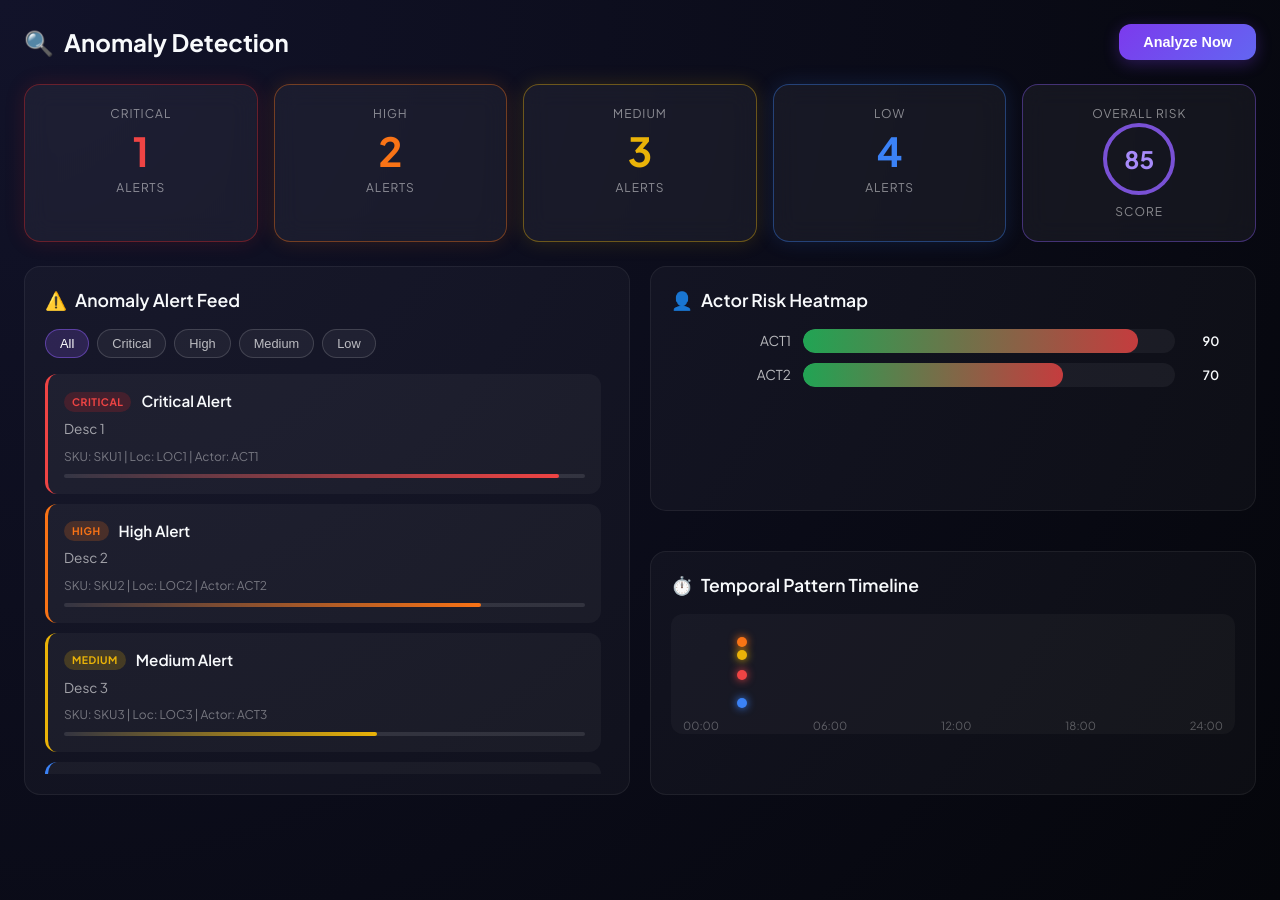
AnomalyDetectionPanel › expands alert card to show evidence
This screenshot has width=1280, height=900.
Expected: the text "Critical Alert" is shown, [141, 390, 232, 413]
Expected: the text "Evidence 1" is not shown
// Click to expand
Click the button "Critical Alert" at (98, 402), box [45, 374, 601, 494]
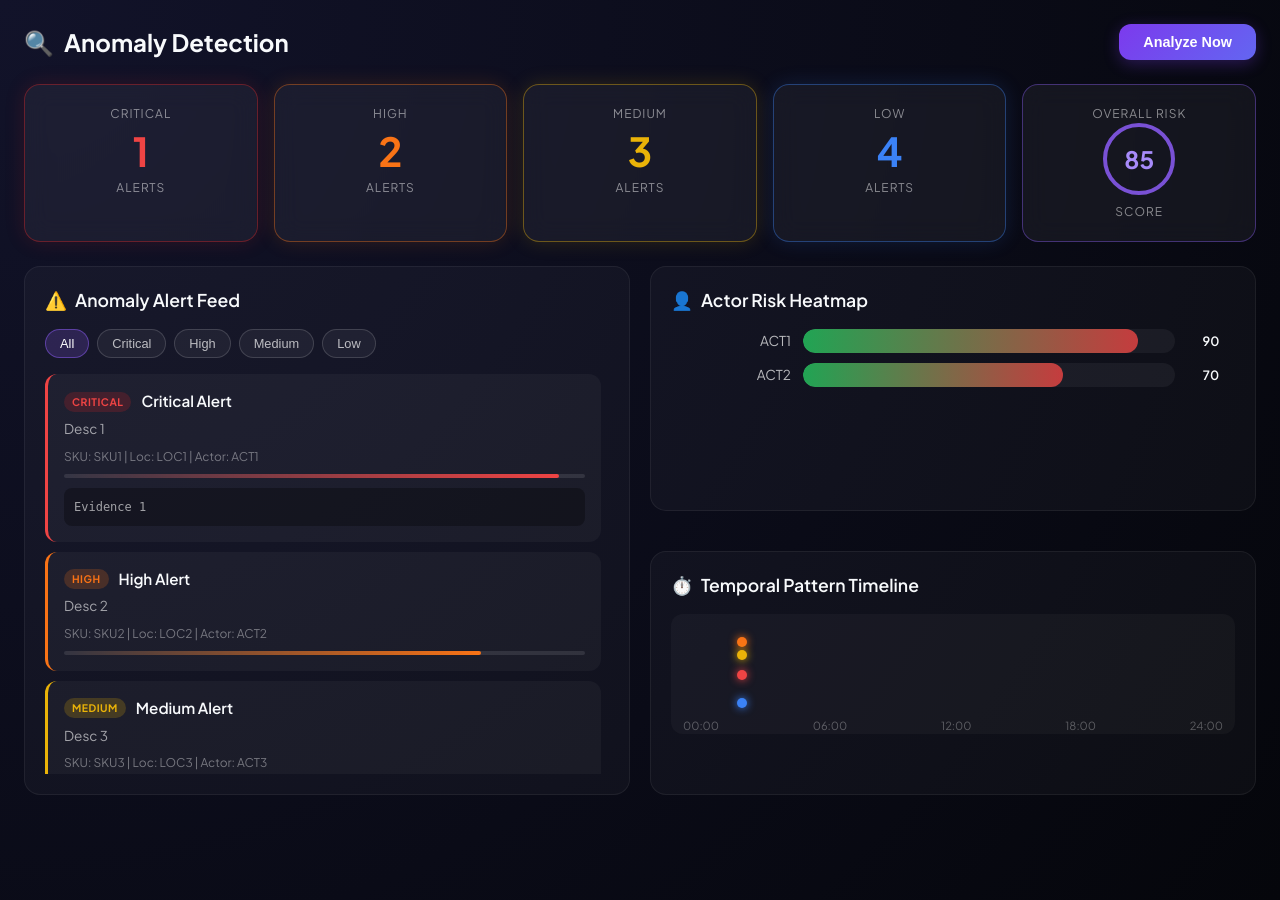
Result: the text "Evidence 1" is shown at [64, 488, 585, 526]
// Click to collapse
Click the button "Critical Alert" at (98, 402), box [45, 374, 601, 542]
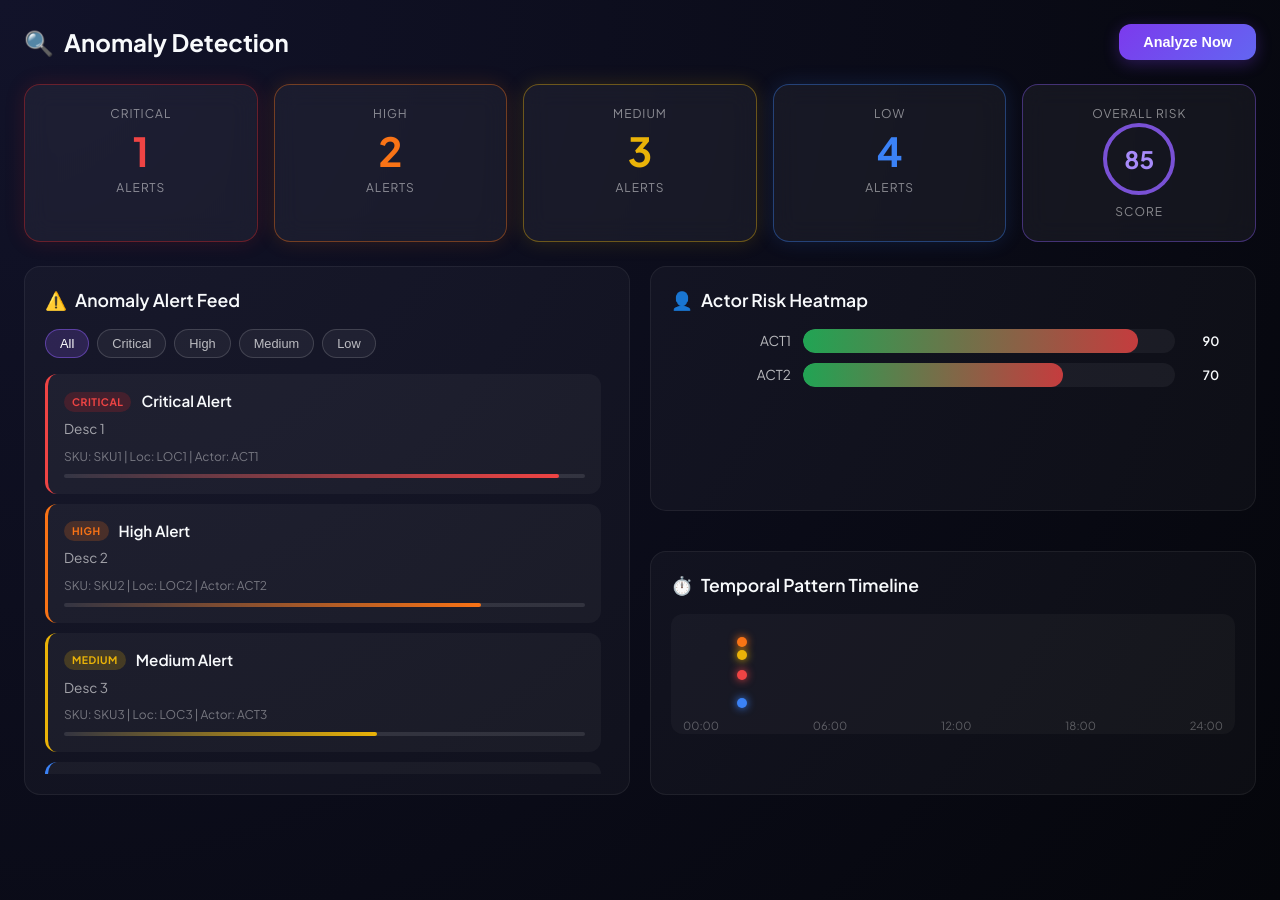
Result: the text "Evidence 1" is gone
// Keydown (Enter) to expand
Press Enter in the button "Critical Alert", box [45, 374, 601, 494]
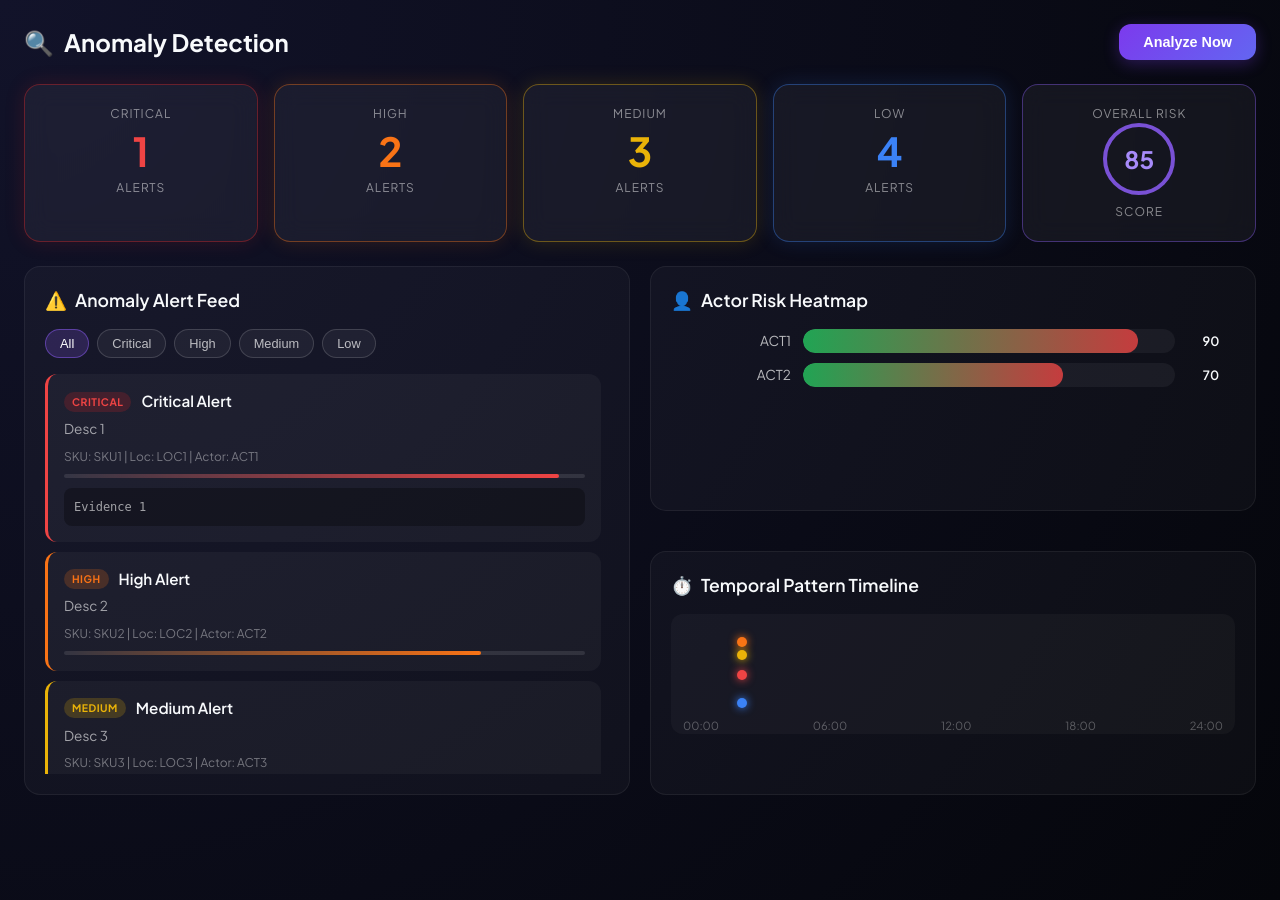
Result: the text "Evidence 1" is shown at [64, 488, 585, 526]
// Keydown (Space) to collapse
Press Space in the button "Critical Alert", box [45, 374, 601, 542]
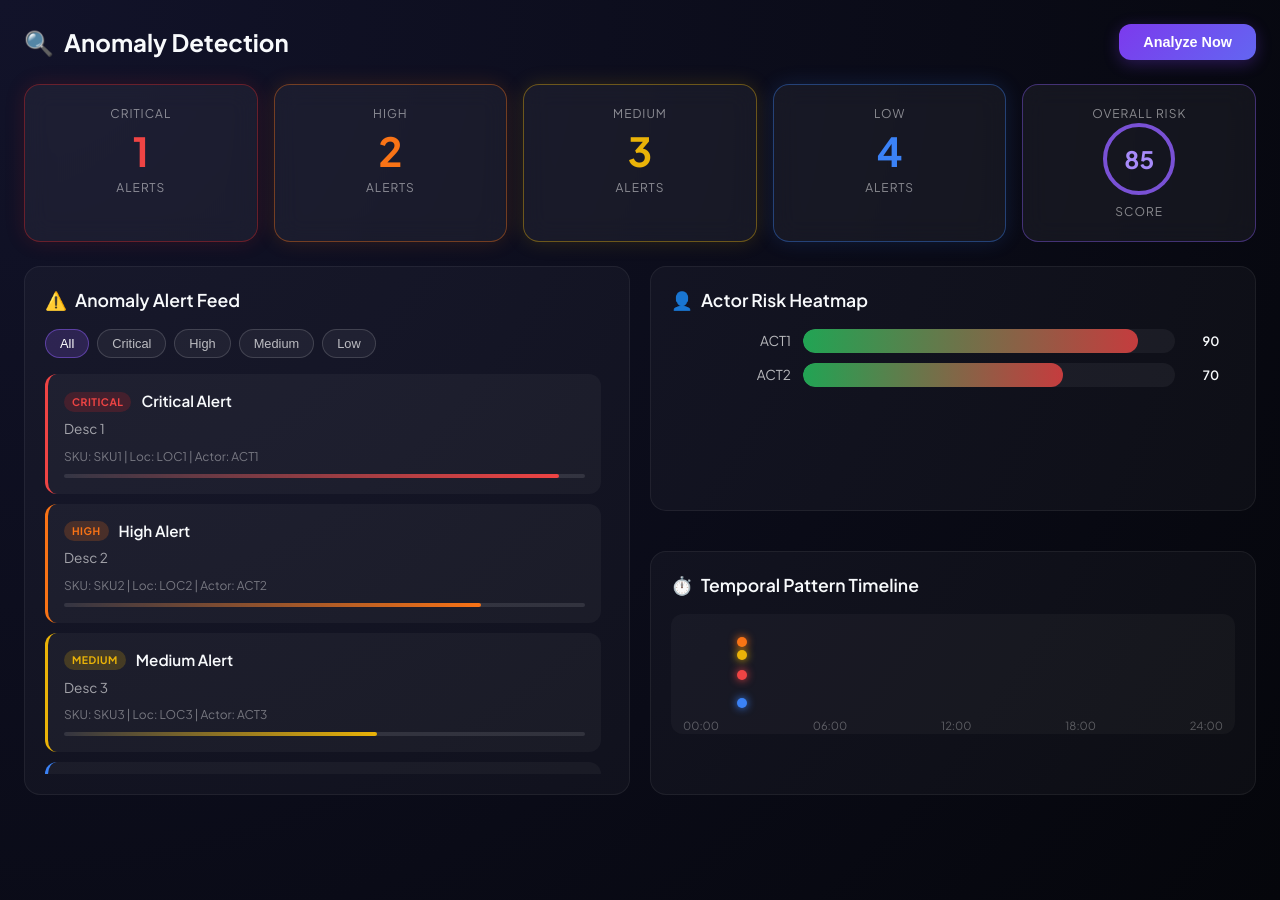
Result: the text "Evidence 1" is gone
